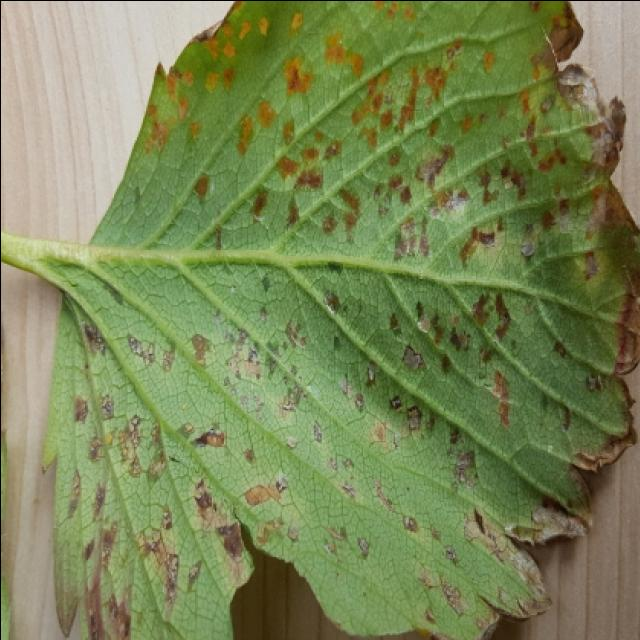Angular Leafspot: (38, 2, 638, 640)
